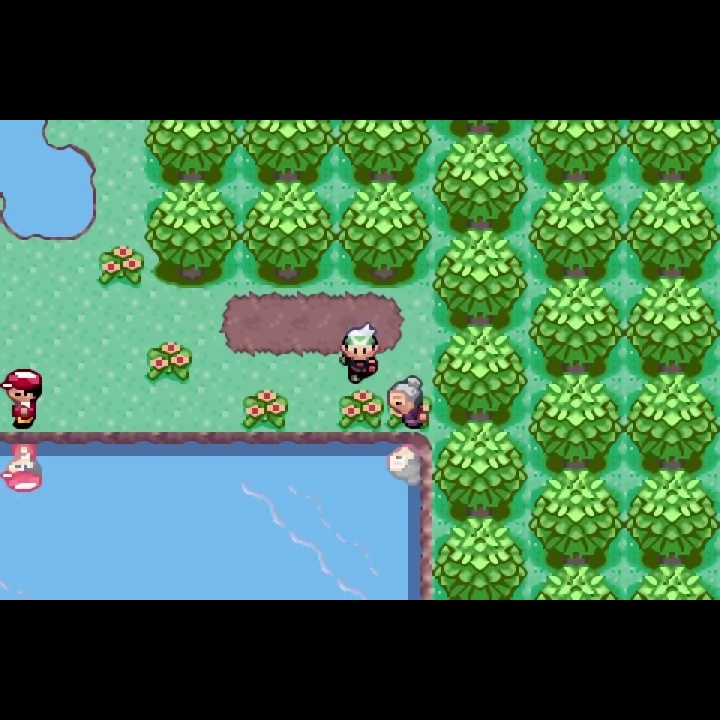npc: (336, 321, 381, 386), (1, 366, 46, 431), (386, 374, 433, 430)
wall: (240, 180, 337, 290), (144, 179, 241, 288), (337, 181, 431, 289), (431, 229, 530, 330), (433, 422, 530, 521), (434, 324, 528, 425), (623, 277, 720, 374), (624, 181, 720, 279), (529, 468, 625, 565), (529, 373, 625, 469), (529, 277, 624, 374), (623, 469, 720, 564), (530, 181, 624, 279), (624, 373, 720, 468), (434, 134, 529, 229), (432, 517, 530, 600), (241, 119, 338, 182), (144, 120, 241, 181), (337, 120, 433, 181), (529, 120, 625, 181), (625, 121, 720, 182), (623, 563, 720, 599), (529, 564, 624, 599), (434, 120, 528, 149)
